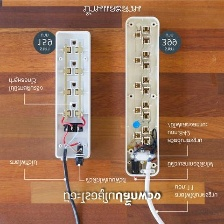three_eye_plug: (122, 14, 161, 179), (49, 28, 93, 162)
